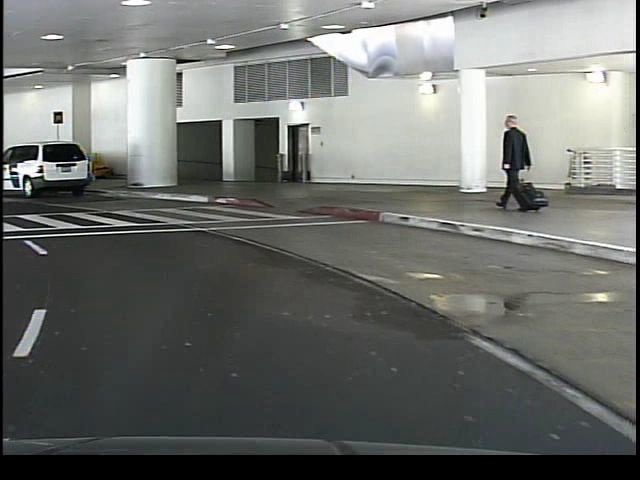person: (489, 109, 526, 215)
